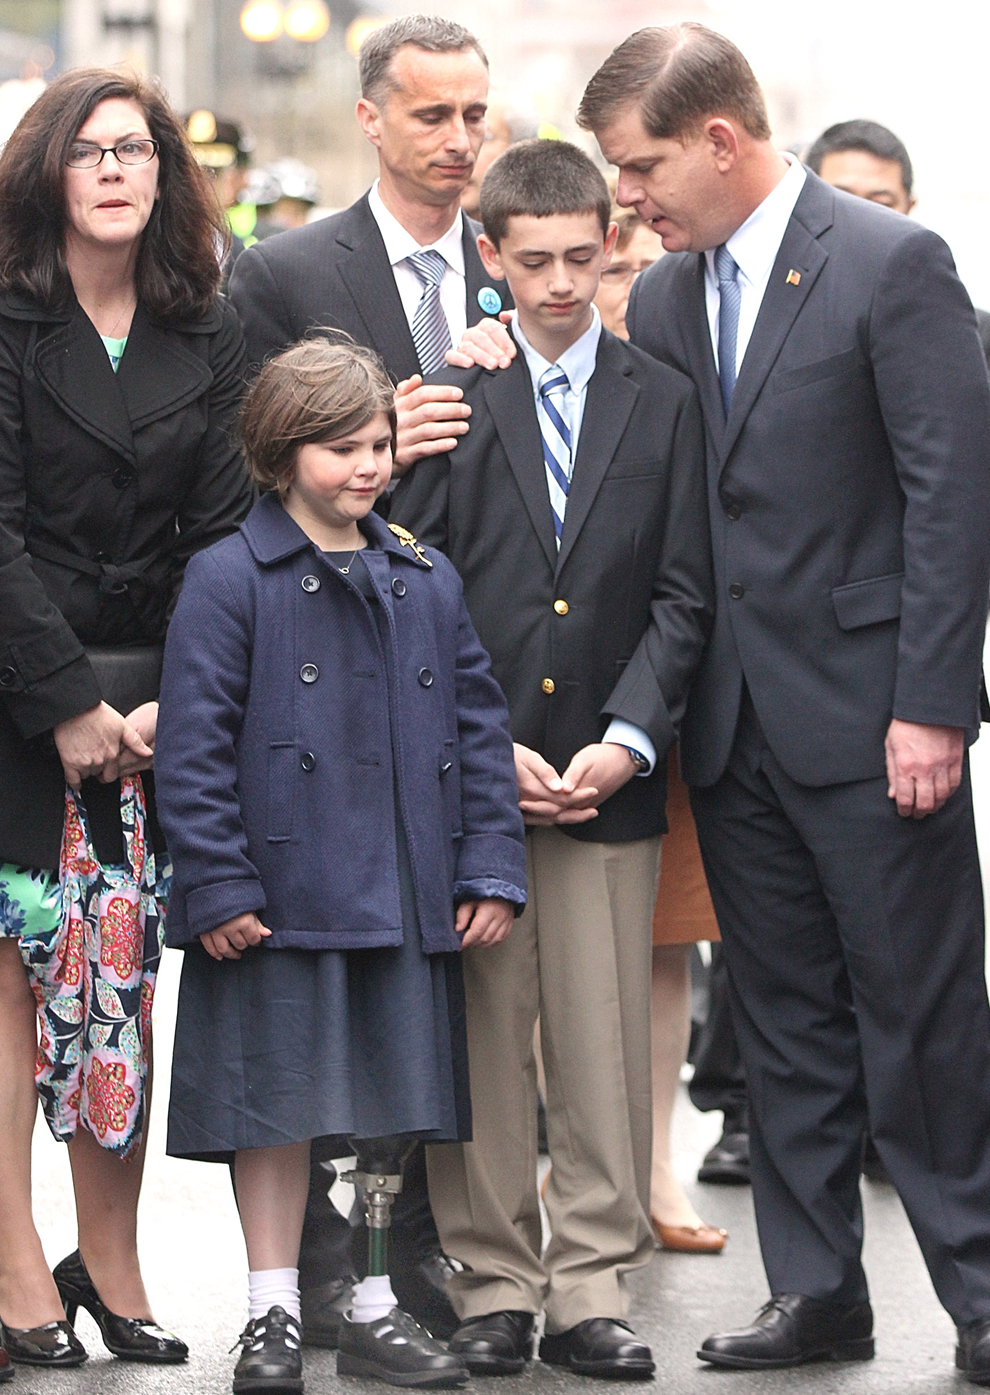Person: (610, 42, 990, 1387), (200, 357, 480, 1387), (5, 72, 185, 1357), (460, 192, 655, 1302)
